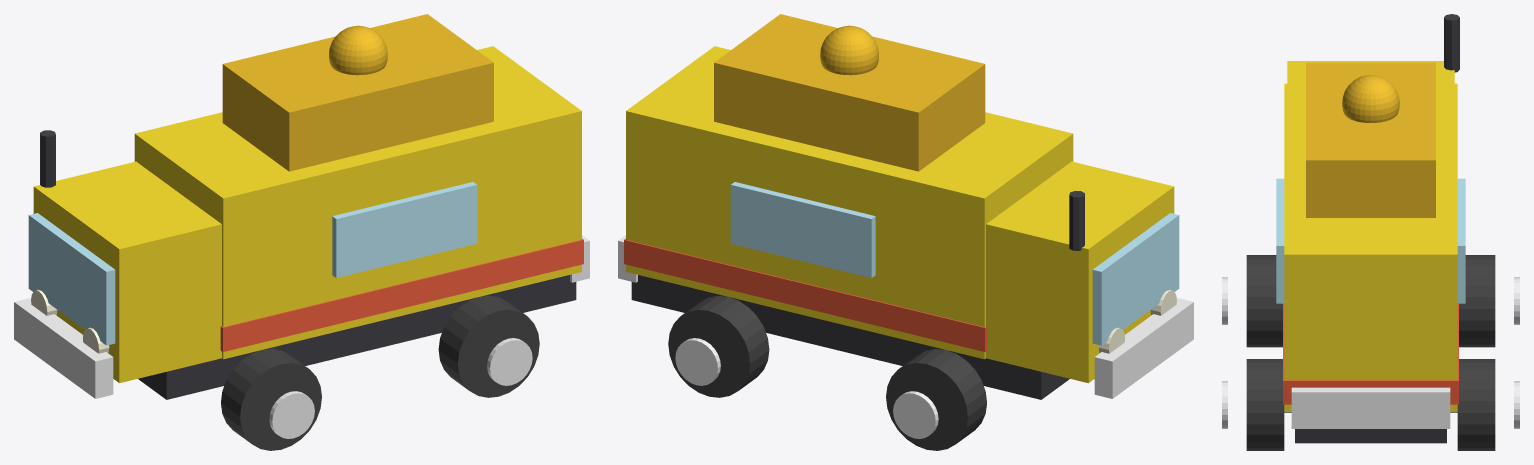
File: FoodTruck.fbx
3 views of the same model, side by side, from view 1: azimuth 30°, elevation 25°; view 2: azimuth 150°, elevation 25°; view 3: azimuth 270°, elevation 25° (orthographic). The views are drawn at different scales.
Parts seen in each view (by area): view 1: Body, RoofBox, Cab, Stripe, SideWin_R, Chassis, Windshield, Wheel_RR, Wheel_FR, BumperF, RoofBurger, Wheel_RR_Hub (+2 smaller); view 2: Body, RoofBox, Cab, Stripe, SideWin_L, Chassis, Windshield, Wheel_RL, Wheel_FL, BumperF, RoofBurger, Wheel_RL_Hub (+2 smaller); view 3: Body, RoofBox, BumperR, Wheel_RL, Wheel_RR, Wheel_FL, Wheel_FR, RoofBurger, Chassis, Stripe, SideWin_L, SideWin_R (+2 smaller).
Boxes of the visible parts, x1=… form: Body: x1=134, y1=46, x2=581, y2=359; RoofBox: x1=222, y1=14, x2=493, y2=171; Cab: x1=33, y1=161, x2=221, y2=383; Stripe: x1=220, y1=238, x2=583, y2=351; SideWin_R: x1=332, y1=182, x2=477, y2=277; Chassis: x1=138, y1=275, x2=576, y2=399; Windshield: x1=28, y1=213, x2=115, y2=345; Wheel_RR: x1=438, y1=295, x2=539, y2=397; Wheel_FR: x1=221, y1=349, x2=321, y2=450; BumperF: x1=14, y1=298, x2=113, y2=398; RoofBurger: x1=329, y1=25, x2=387, y2=75; Wheel_RR_Hub: x1=487, y1=338, x2=532, y2=385; Body: x1=626, y1=46, x2=1073, y2=359; RoofBox: x1=714, y1=14, x2=985, y2=171; Cab: x1=986, y1=161, x2=1174, y2=383; Stripe: x1=624, y1=238, x2=987, y2=351; SideWin_L: x1=730, y1=182, x2=875, y2=277; Chassis: x1=631, y1=275, x2=1069, y2=399; Windshield: x1=1092, y1=213, x2=1179, y2=345; Wheel_RL: x1=668, y1=295, x2=769, y2=397; Wheel_FL: x1=886, y1=349, x2=986, y2=450; BumperF: x1=1094, y1=298, x2=1193, y2=398; RoofBurger: x1=820, y1=25, x2=878, y2=75; Wheel_RL_Hub: x1=675, y1=338, x2=720, y2=385; Body: x1=1284, y1=83, x2=1457, y2=411; RoofBox: x1=1306, y1=62, x2=1435, y2=217; BumperR: x1=1291, y1=387, x2=1450, y2=428; Wheel_RL: x1=1457, y1=359, x2=1495, y2=450; Wheel_RR: x1=1246, y1=359, x2=1284, y2=450; Wheel_FL: x1=1459, y1=255, x2=1495, y2=347; Wheel_FR: x1=1246, y1=255, x2=1282, y2=347; RoofBurger: x1=1342, y1=75, x2=1399, y2=122; Chassis: x1=1295, y1=429, x2=1446, y2=443; Stripe: x1=1283, y1=303, x2=1458, y2=404; SideWin_L: x1=1457, y1=178, x2=1465, y2=303; SideWin_R: x1=1276, y1=178, x2=1284, y2=303.
Bounding box in the file's own units: 386 × 254 × 206.
